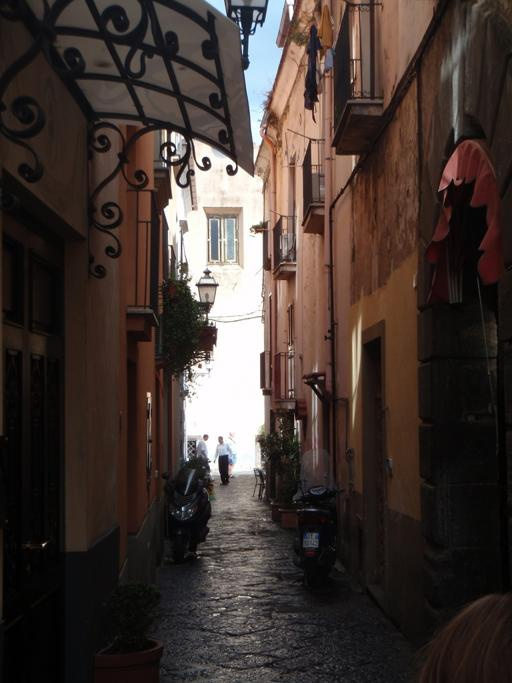non-vehicle: (292, 484, 345, 587), (161, 467, 211, 562)
